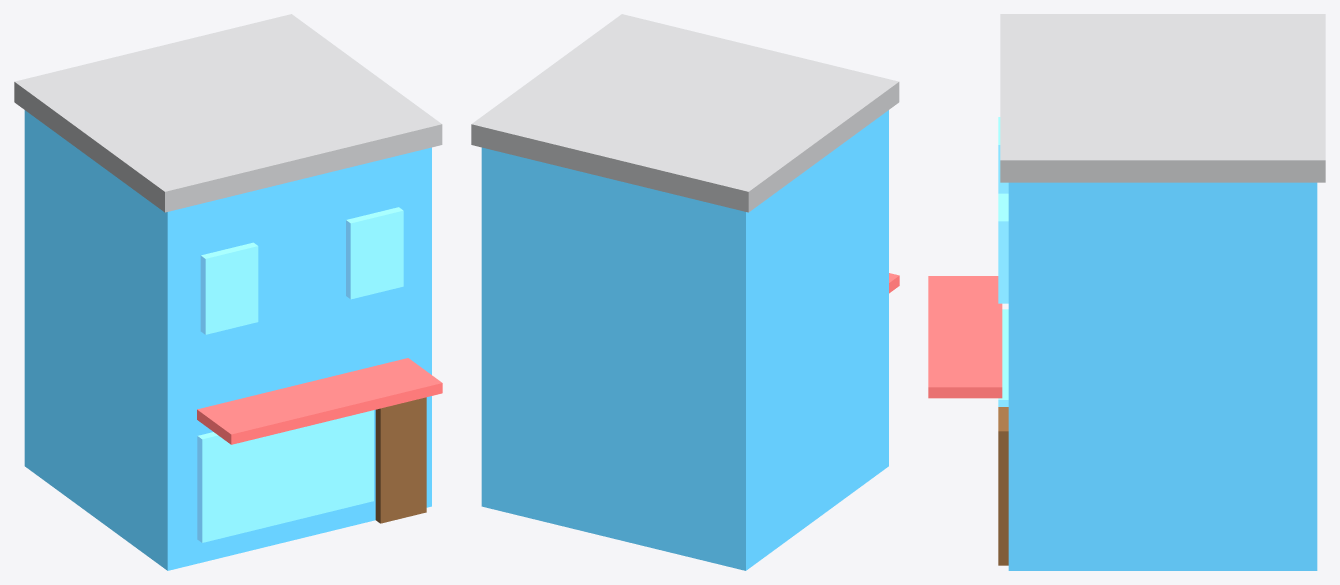
File: commercial_2.glb
The picture shows the model from 3 angles, left to right: view 1: azimuth 30°, elevation 25°; view 2: azimuth 150°, elevation 25°; view 3: azimuth 270°, elevation 25°; orthographic projection. The views are drawn at different scales.
Visible parts, largest first — view 1: commercial_2; view 2: commercial_2; view 3: commercial_2.
Part boxes in pixels (left/top/right/bottom): commercial_2: left=14, top=14, right=442, bottom=570; commercial_2: left=471, top=14, right=899, bottom=570; commercial_2: left=928, top=14, right=1325, bottom=570.
Bounding box in the file's own units: 0.84 × 1.11 × 0.965.
